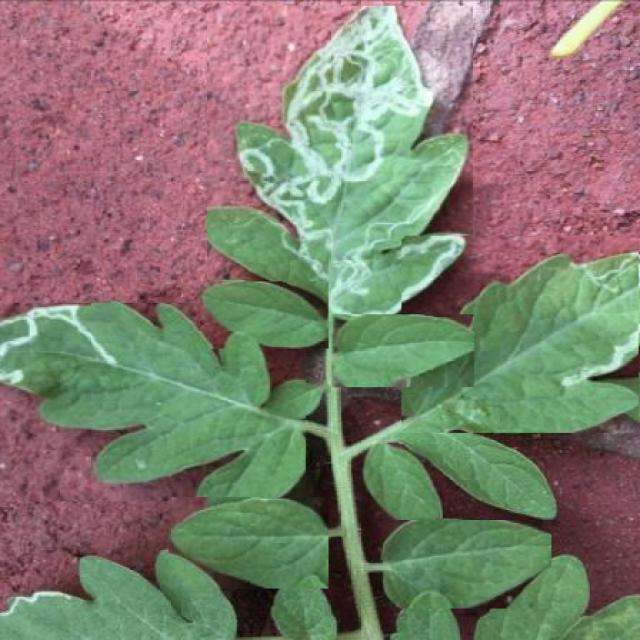Healthy: (382, 520, 552, 609), (168, 498, 329, 588), (332, 314, 475, 387), (200, 282, 328, 348), (358, 444, 443, 523)
Leaf Miner: (208, 6, 473, 321), (0, 303, 306, 501), (402, 236, 639, 433)
